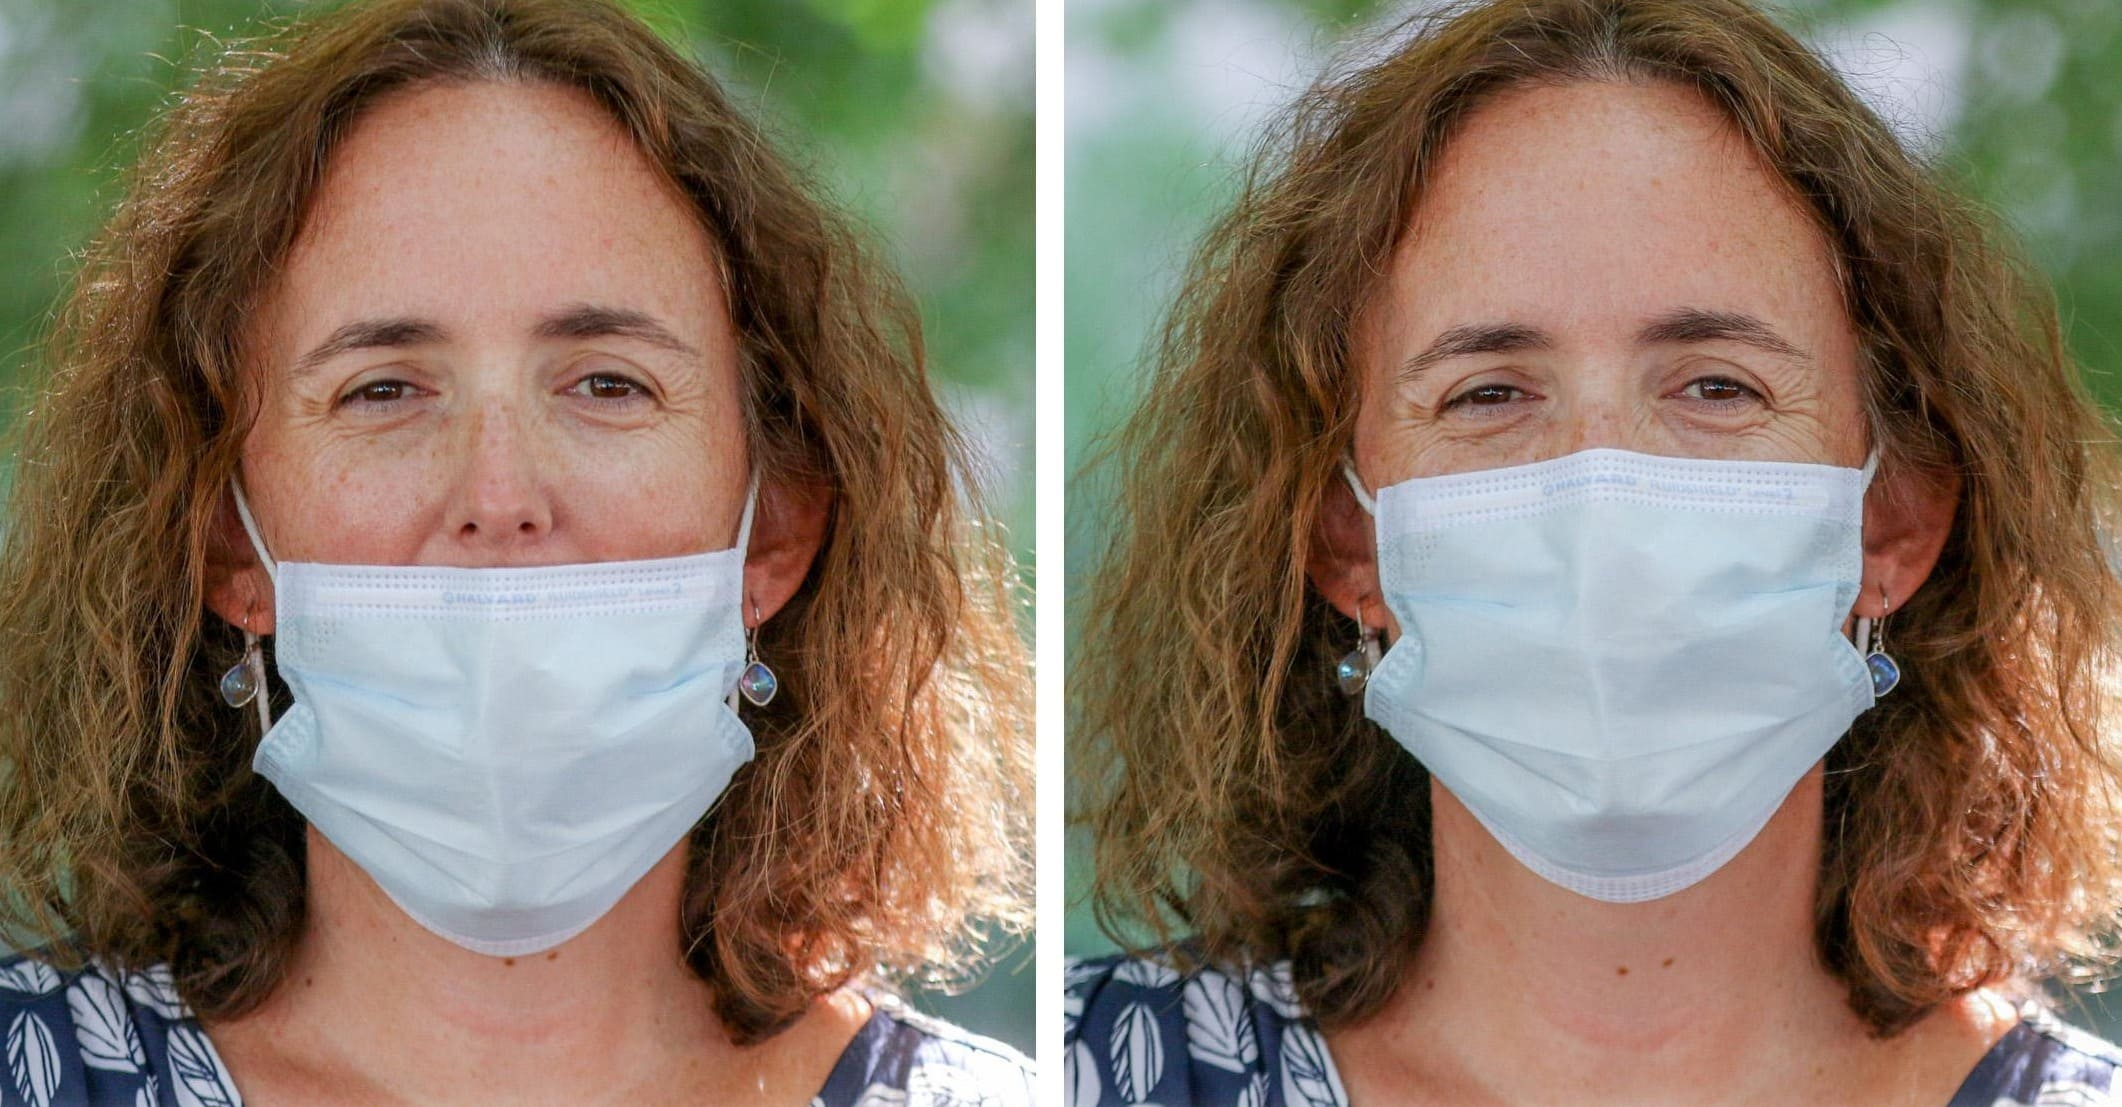with_incorrect_mask: (251, 102, 782, 955)
with_mask: (1387, 81, 1895, 899)
